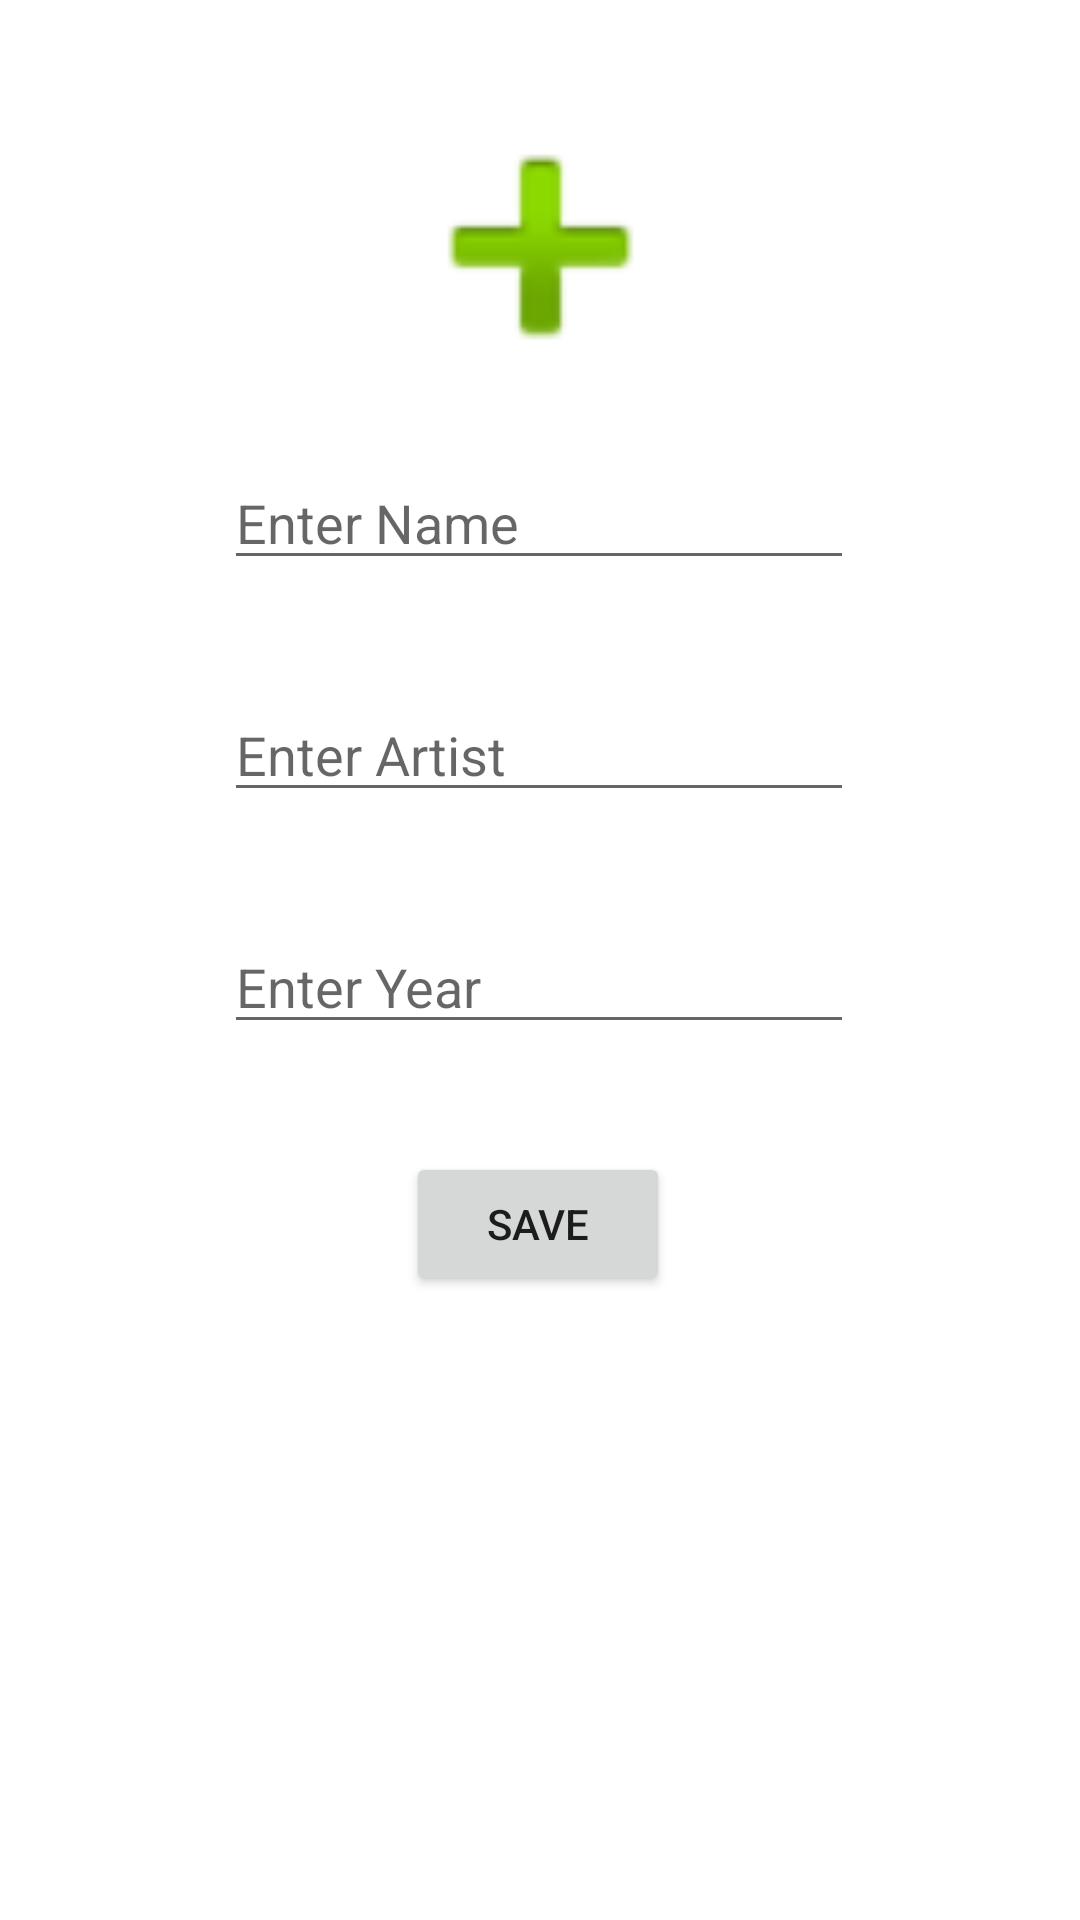

Named icons in this screenshot (1080px x 1920px) and their bounding boxes, bbox=(x1, y1, x2, y2):
add image: bbox=(448, 155, 633, 339)
